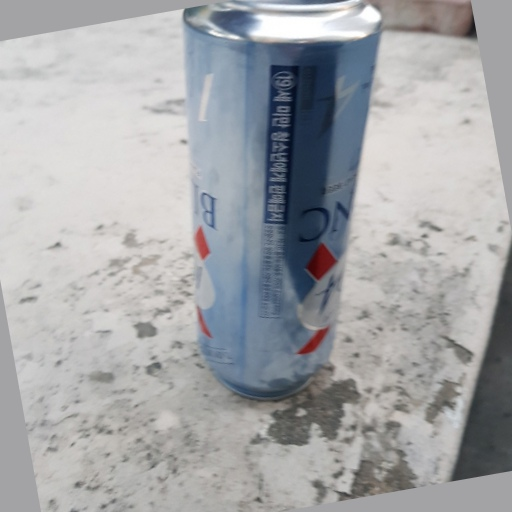Metal_0: (181, 1, 382, 392)
